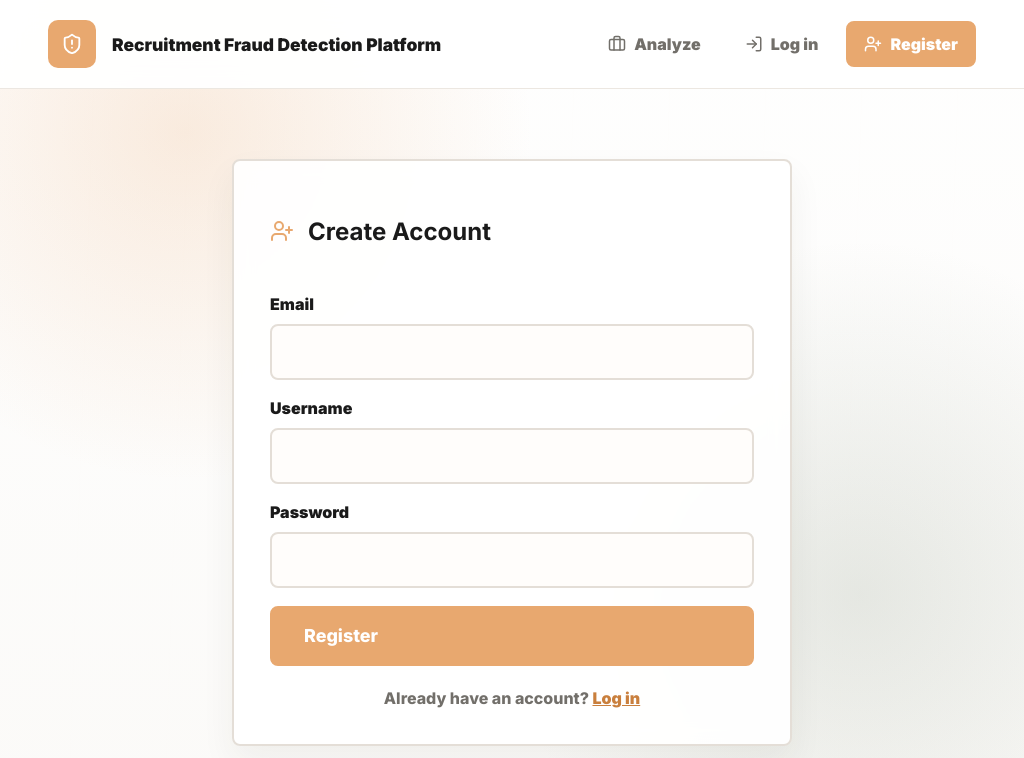
Test case: shows FastAPI registration validation errors as readable text
Type "user@example.com" into the field labelled "Email". click: (512, 352)
box: top-left (270, 324), bottom-right (754, 380)
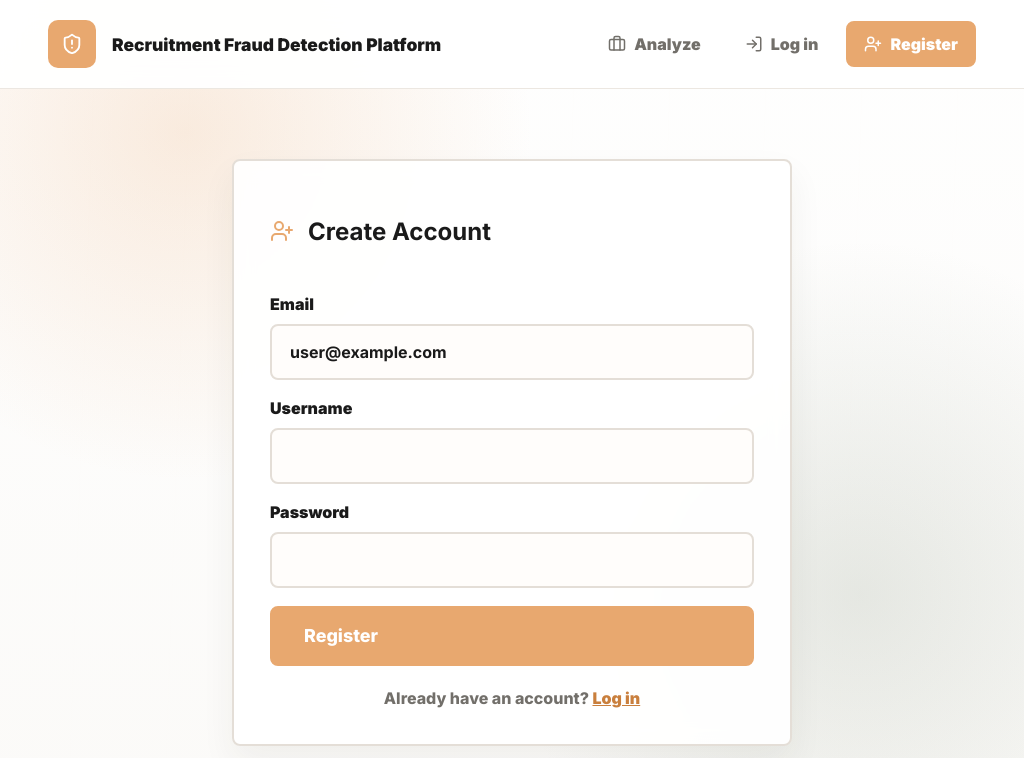
Type "unit-user" into the field labelled "Username". click: (512, 456)
box: top-left (270, 428), bottom-right (754, 484)
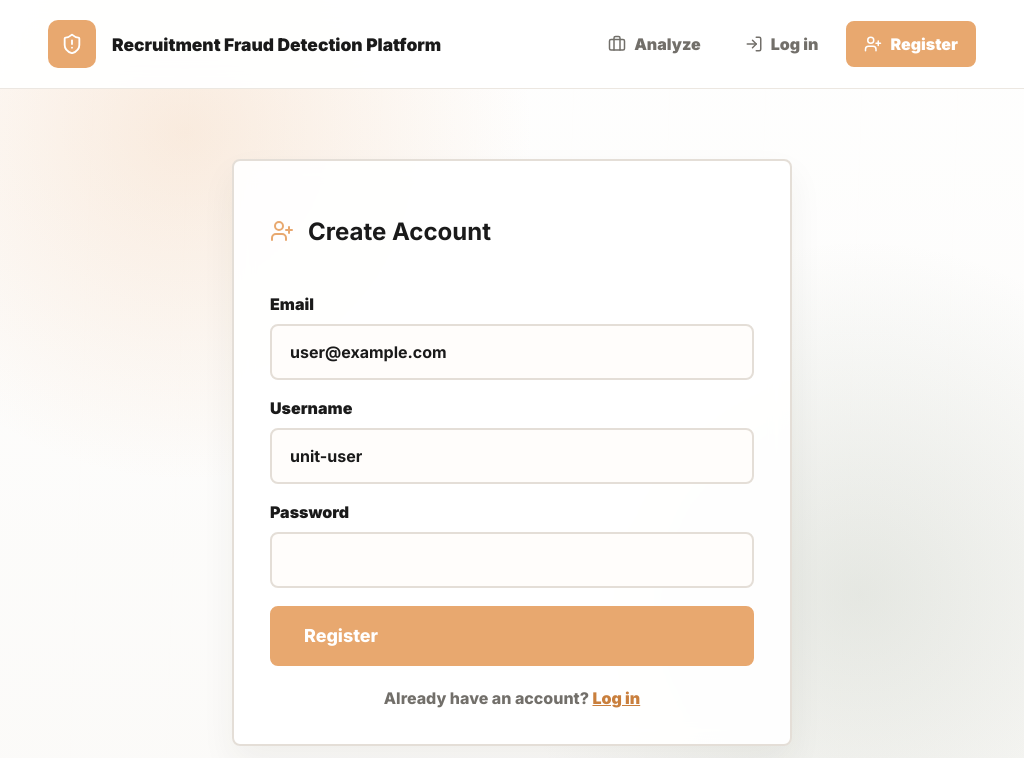
Type "password1" into the password field labelled "Password". click: (512, 560)
box: top-left (270, 532), bottom-right (754, 588)
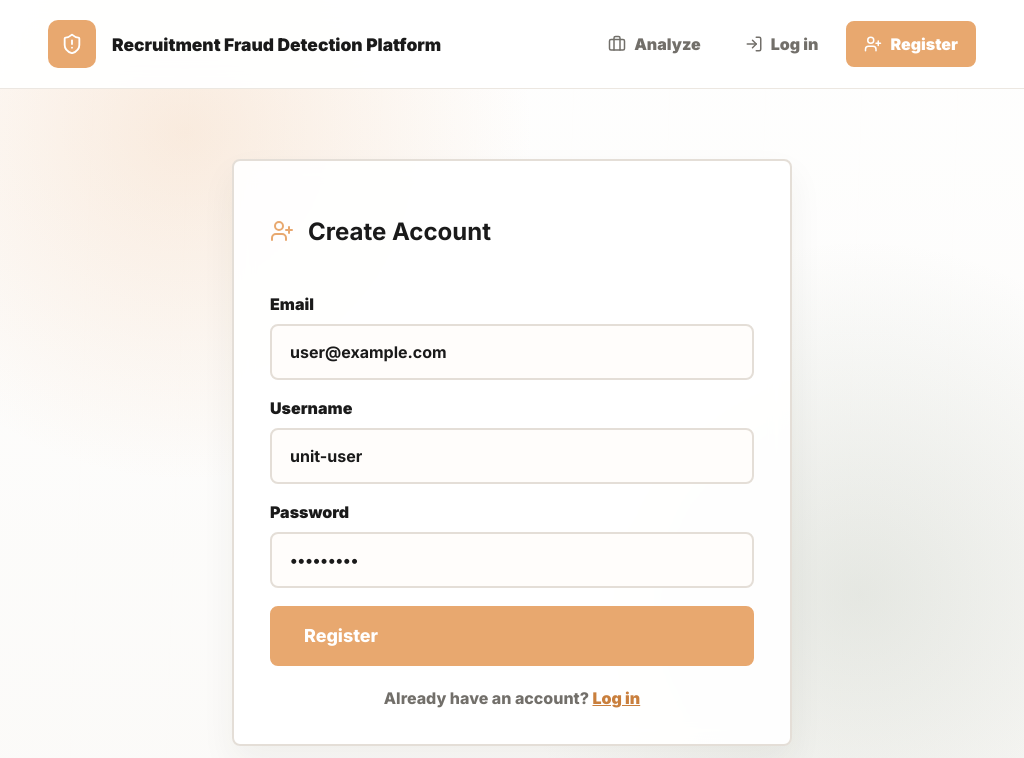
Click the button "Register". click: (341, 636)
box: top-left (270, 606), bottom-right (754, 666)
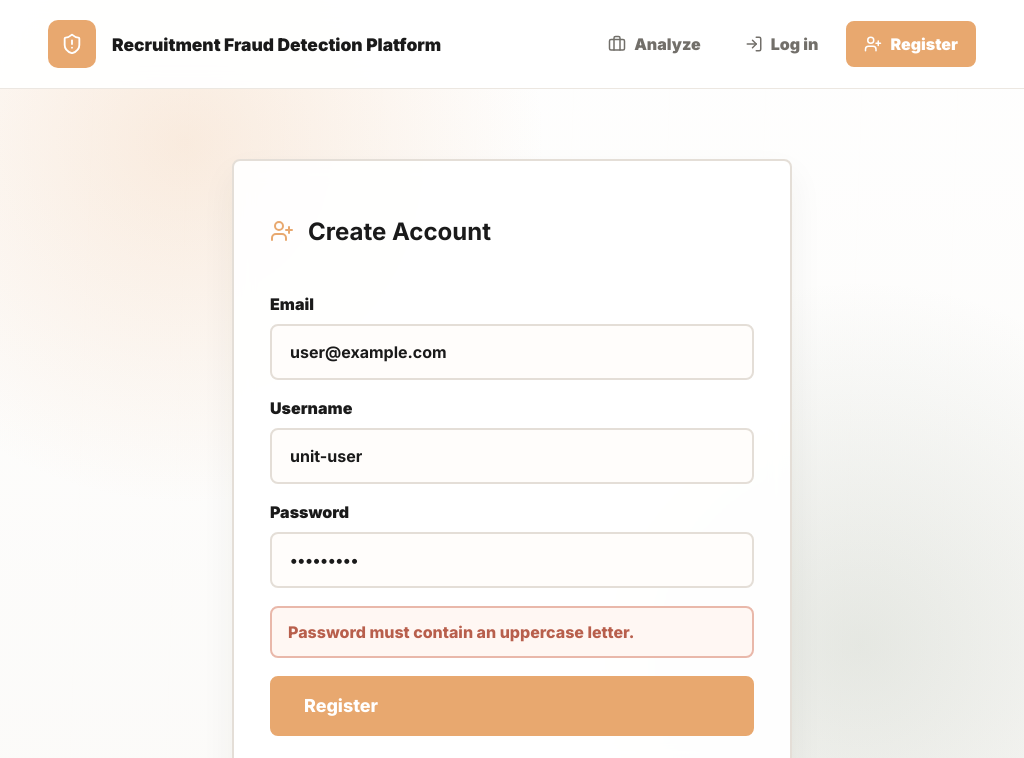
Expected: the text "Password must contain an uppercase letter." is shown, top-left (270, 606), bottom-right (754, 658)
